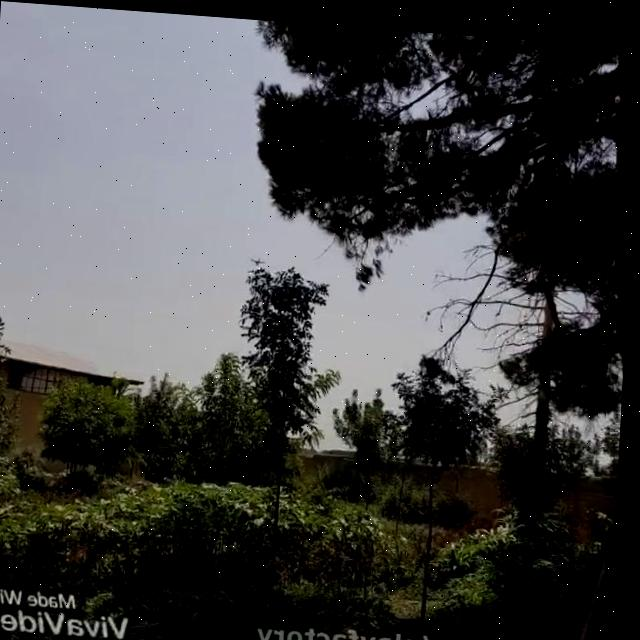drone: (249, 249, 267, 263)
